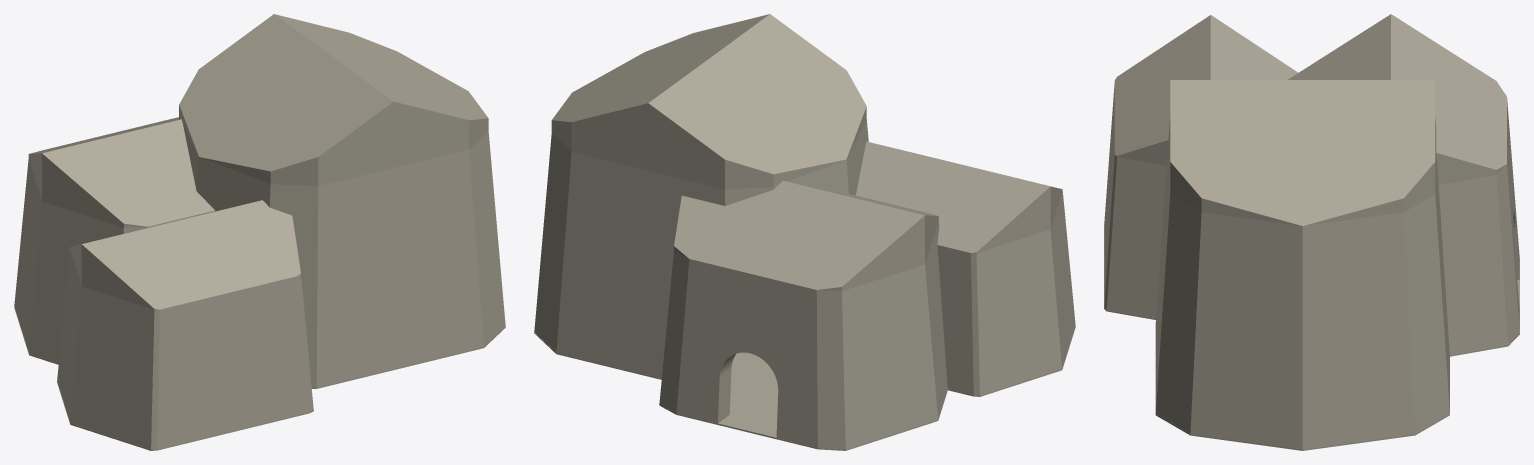
3 views of the same model, side by side, from view 1: azimuth 30°, elevation 25°; view 2: azimuth 150°, elevation 25°; view 3: azimuth 270°, elevation 25° (orthographic). The views are drawn at different scales.
Parts seen in each view (by area): view 1: body_stone, roof_stone; view 2: body_stone, roof_stone; view 3: body_stone, roof_stone.
Boxes of the visible parts, x1,y1,x2,y2 form: body_stone: [14, 117, 505, 450]; roof_stone: [28, 14, 488, 309]; body_stone: [534, 119, 1075, 450]; roof_stone: [551, 14, 1062, 291]; body_stone: [1104, 84, 1519, 450]; roof_stone: [1114, 14, 1506, 225].
Size of what is drawn, in the model's own units: 15.8 by 8.7 by 11.3.
